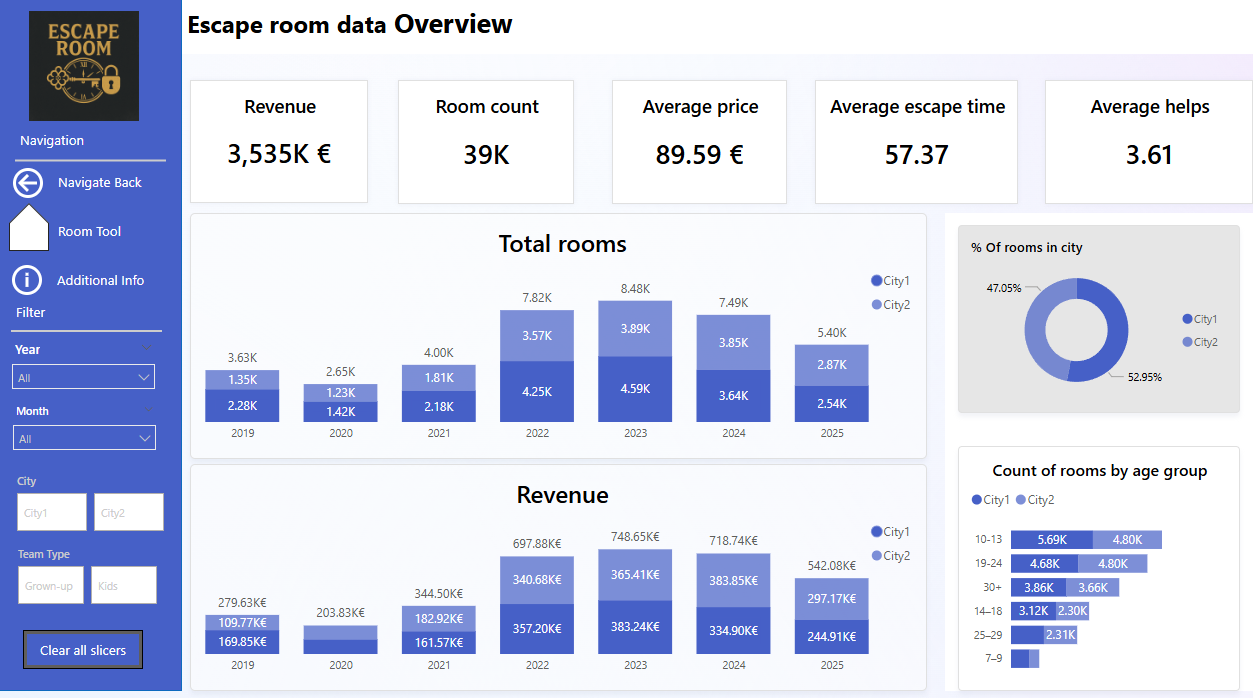

The page's visual inventory and layout, read from the dashboard file:
{"tool":"powerbi","page":{"name":"Main Page","canvas":[1280,720],"ordinal":0},"visuals":[{"type":"shape","box":[5,8.8,182.5,692.5],"z":0},{"type":"card","title":"Revenue","fields":{"Values":["Sum(full_data.Revenue)"]},"box":[196.2,90,177.5,122.5],"z":1000},{"type":"textbox","box":[187.5,8.8,1092.5,55],"z":2000},{"type":"columnChart","title":"Total rooms","fields":{"Category":["full_data.Data.Variation.Date Hierarchy.Year","full_data.Data.Variation.Date Hierarchy.Quarter","full_data.Data.Variation.Date Hierarchy.Month","full_data.Data.Variation.Date Hierarchy.Day"],"Series":["full_data.City"],"Y":["full_data.Count_Kambarys"]},"box":[196.2,222.5,736.2,246.2],"z":3000},{"type":"shape","box":[951.2,222.5,307.5,478.8],"z":4000},{"type":"donutChart","title":"% Of rooms in city","fields":{"Y":["full_data.City count"],"Category":["full_data.City"]},"box":[963.8,235,282.5,187.5],"z":5000},{"type":"barChart","title":"Count of rooms by age group","fields":{"Category":["full_data.Age Group"],"Y":["full_data.Count_Kambarys"],"Series":["full_data.City"]},"box":[963.8,456.2,282.5,245],"z":6000},{"type":"shape","box":[21.3,156.8,151.1,27.1],"z":7000},{"type":"shape","box":[16.8,319.2,151.1,44],"z":8000},{"type":"textbox","box":[16.8,307.9,92.5,28.2],"z":9000},{"type":"textbox","box":[21.3,136.5,92.5,29.3],"z":10000},{"type":"slicer","fields":{"Values":["full_data.Data.Variation.Date Hierarchy.Year"]},"box":[13.4,349.6,152.2,56.4],"z":11000},{"type":"slicer","fields":{"Values":["full_data.Data.Variation.Date Hierarchy.Month"]},"box":[14.5,412.8,152.2,56.4],"z":12000},{"type":"advancedSlicerVisual","title":"City","fields":{"Values":["full_data.City"]},"box":[17.9,482.7,156.8,63.2],"z":13000},{"type":"advancedSlicerVisual","title":"Team Type","fields":{"Values":["full_data.TeamType"]},"box":[19,556,150,63.2],"z":14000},{"type":"card","title":"Room count","fields":{"Values":["full_data.Count_Kambarys"]},"box":[403.8,90,176.2,123.8],"z":15000},{"type":"card","title":"Average price","fields":{"Values":["full_data.Average Price"]},"box":[617.5,90,175,123.8],"z":16000},{"type":"card","title":"Average escape time","fields":{"Values":["Avg(full_data.Escape Time)"]},"box":[821.2,90,202.5,123.8],"z":17000},{"type":"card","title":"Average helps","fields":{"Values":["Avg(full_data.Helps)"]},"box":[1051.2,90,207.5,123.8],"z":18000},{"type":"actionButton","box":[13.9,172.8,46.6,40.3],"z":19000},{"type":"actionButton","box":[12.6,270,45.6,40],"z":20000},{"type":"textbox","box":[58.7,178.2,120.9,28.7],"z":21000},{"type":"textbox","box":[58.7,227.5,120.9,28.7],"z":22000},{"type":"textbox","box":[58.2,275.6,121.1,27.8],"z":23000},{"type":"actionButton","box":[29.1,640.3,120,38.5],"z":24000},{"type":"pageNavigator","box":[14.9,213.3,40,47.8],"z":26000},{"type":"image","box":[27.5,16.2,123.8,120],"z":27000},{"type":"columnChart","title":"Revenue","fields":{"Category":["full_data.Data.Variation.Date Hierarchy.Year","full_data.Data.Variation.Date Hierarchy.Quarter","full_data.Data.Variation.Date Hierarchy.Month","full_data.Data.Variation.Date Hierarchy.Day"],"Series":["full_data.City"],"Y":["Sum(full_data.Revenue)"]},"box":[196.2,473.8,736.2,227.5],"z":28000}]}

Visuals, with their boxes on the page's 1280x720 design canvas (x1, y1, x2, y2). These are canvas units, not pixel positions in the 1253x698 screenshot, which may show the page scaled, cropped or inside an application window:
shape: left=5, top=9, right=188, bottom=701
"Revenue" card: left=196, top=90, right=374, bottom=212
textbox: left=188, top=9, right=1280, bottom=64
"Total rooms" columnChart: left=196, top=222, right=932, bottom=469
shape: left=951, top=222, right=1259, bottom=701
"% Of rooms in city" donutChart: left=964, top=235, right=1246, bottom=422
"Count of rooms by age group" barChart: left=964, top=456, right=1246, bottom=701
shape: left=21, top=157, right=172, bottom=184
shape: left=17, top=319, right=168, bottom=363
textbox: left=17, top=308, right=109, bottom=336
textbox: left=21, top=136, right=114, bottom=166
slicer - full_data.Data.Variation.Date Hierarchy.Year: left=13, top=350, right=166, bottom=406
slicer - full_data.Data.Variation.Date Hierarchy.Month: left=14, top=413, right=167, bottom=469
"City" advancedSlicerVisual: left=18, top=483, right=175, bottom=546
"Team Type" advancedSlicerVisual: left=19, top=556, right=169, bottom=619
"Room count" card: left=404, top=90, right=580, bottom=214
"Average price" card: left=618, top=90, right=792, bottom=214
"Average escape time" card: left=821, top=90, right=1024, bottom=214
"Average helps" card: left=1051, top=90, right=1259, bottom=214
actionButton: left=14, top=173, right=60, bottom=213
actionButton: left=13, top=270, right=58, bottom=310
textbox: left=59, top=178, right=180, bottom=207
textbox: left=59, top=228, right=180, bottom=256
textbox: left=58, top=276, right=179, bottom=303
actionButton: left=29, top=640, right=149, bottom=679
pageNavigator: left=15, top=213, right=55, bottom=261
image: left=28, top=16, right=151, bottom=136
"Revenue" columnChart: left=196, top=474, right=932, bottom=701
